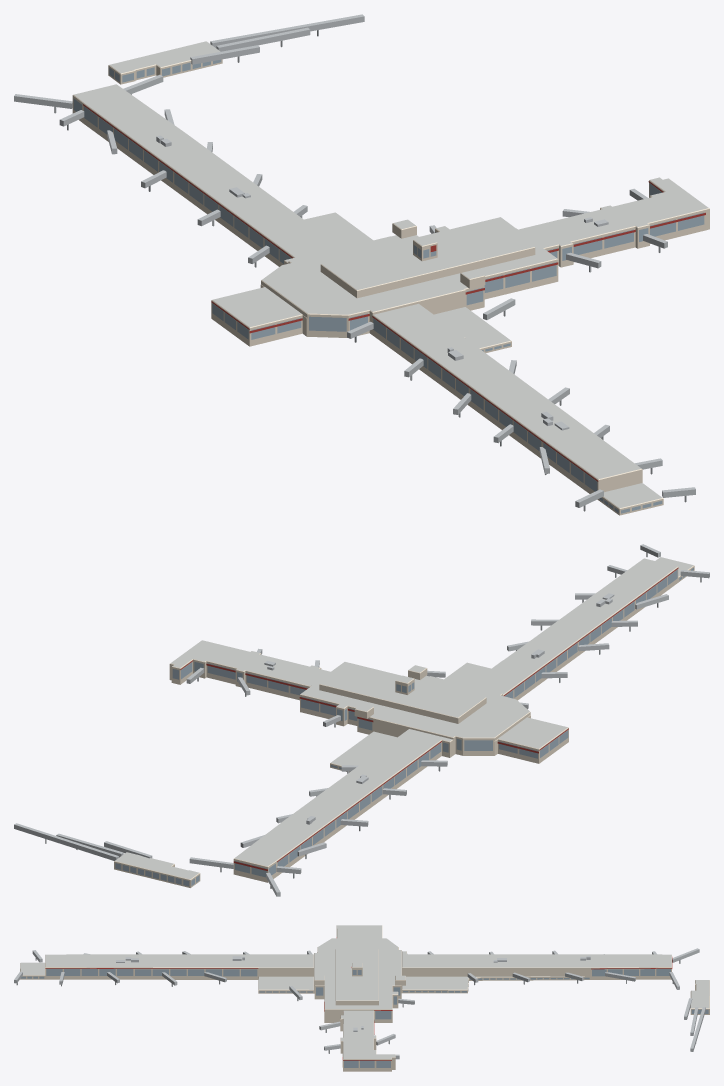
File: atl-hartsfield-jackson-concourse-e.glb
3 views of the same model, one above another, from view 1: azimuth 30°, elevation 25°; view 2: azimuth 150°, elevation 25°; view 3: azimuth 270°, elevation 25° (orthographic). The views are drawn at different scales.
Visible parts, largest first — view 1: Hartsfield-Jackson Concourse E; view 2: Hartsfield-Jackson Concourse E; view 3: Hartsfield-Jackson Concourse E.
Boxes of the visible parts, left/top/right/bottom form: Hartsfield-Jackson Concourse E: left=14, top=14, right=709, bottom=515; Hartsfield-Jackson Concourse E: left=14, top=544, right=709, bottom=896; Hartsfield-Jackson Concourse E: left=14, top=925, right=709, bottom=1071.
Bounding box in the file's own units: 355 × 33.5 × 772.
